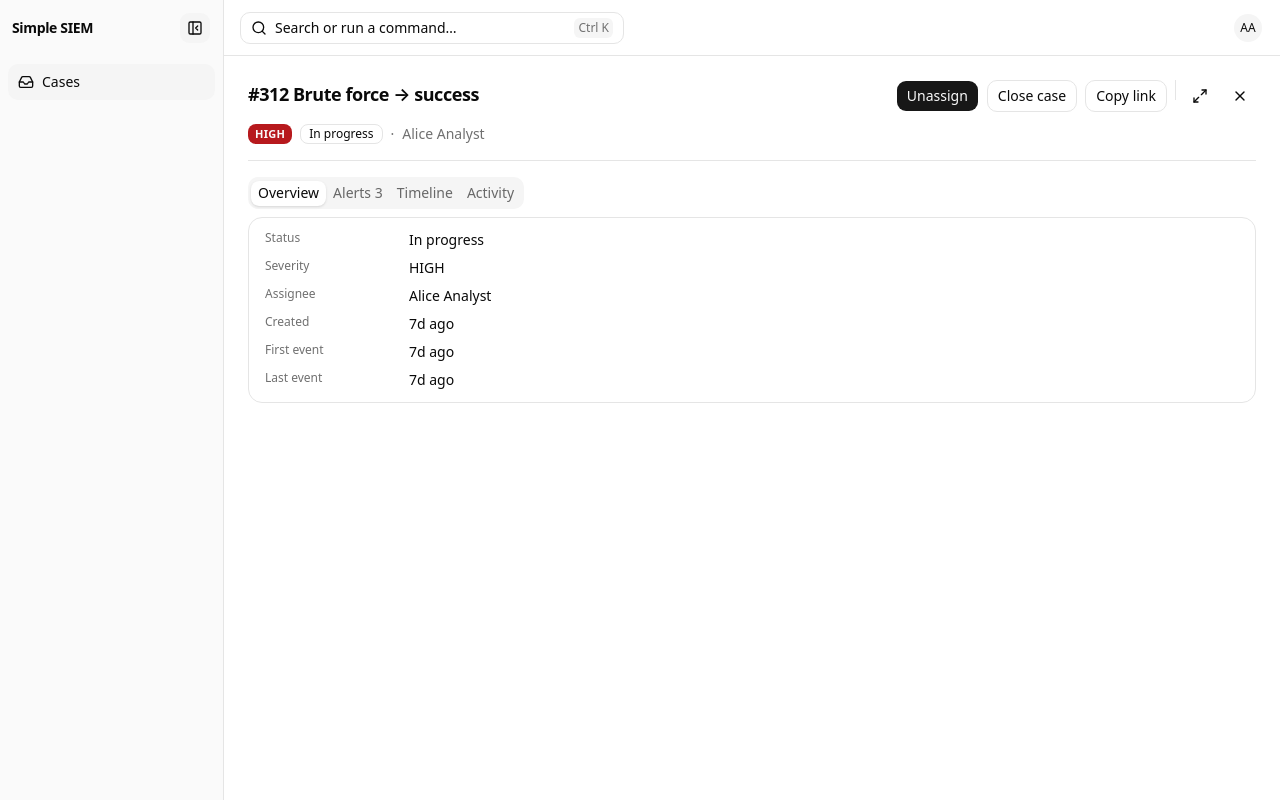
Test: assign to me › unassigns with null when the case is mine
Click the button "Unassign". click: (937, 96)
box: [896,80,979,112]
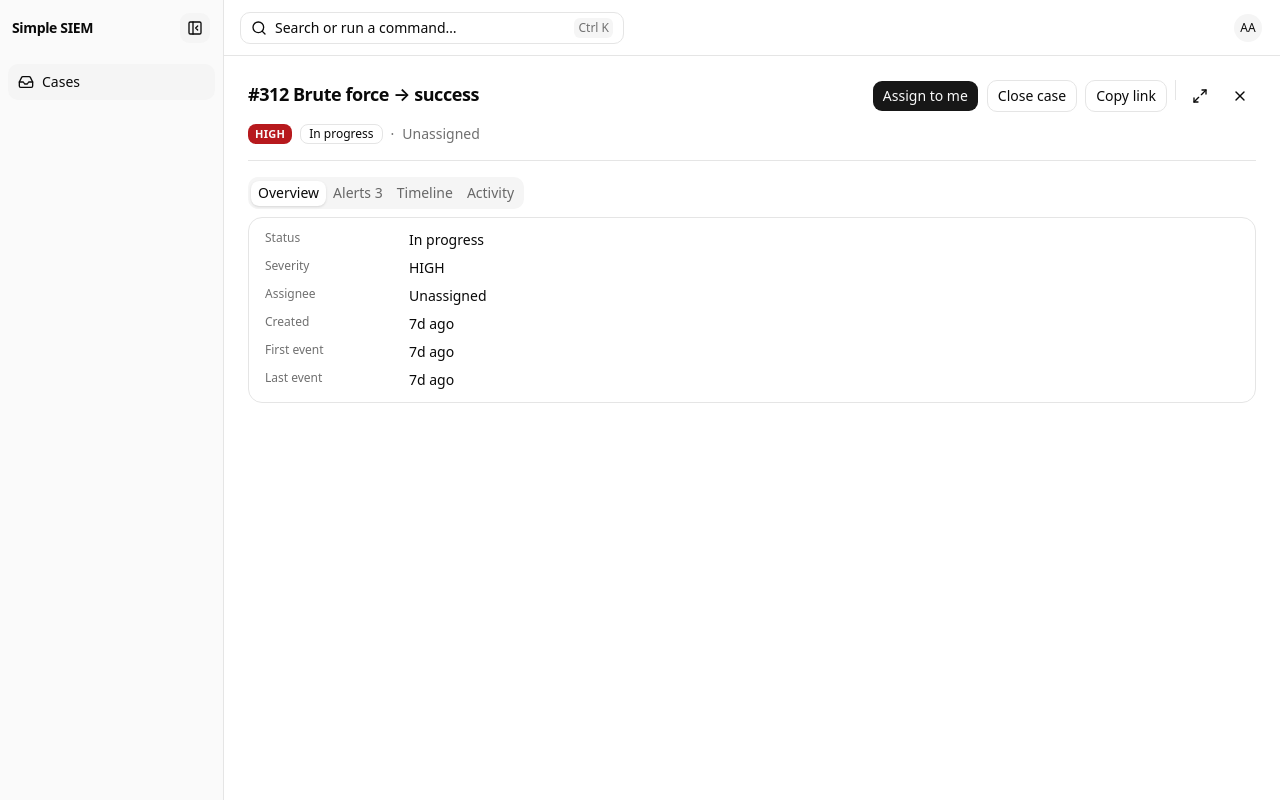
Check: the button "Assign to me" is shown, box [872,80,979,112]
